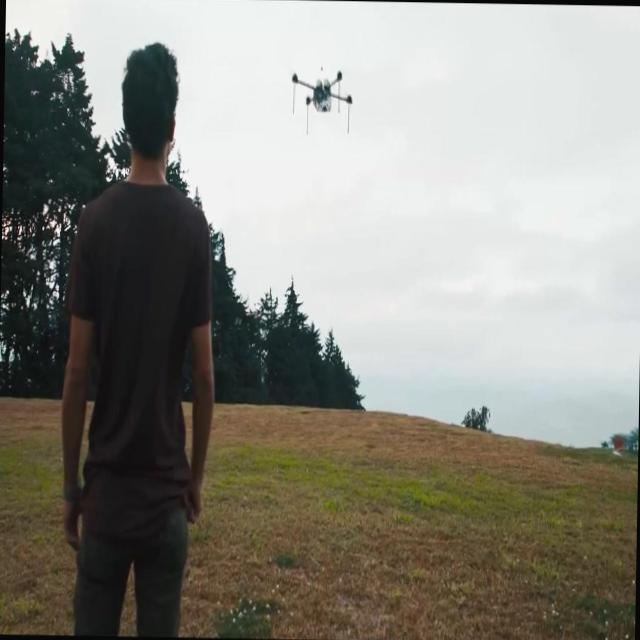drone: (289, 60, 353, 140)
